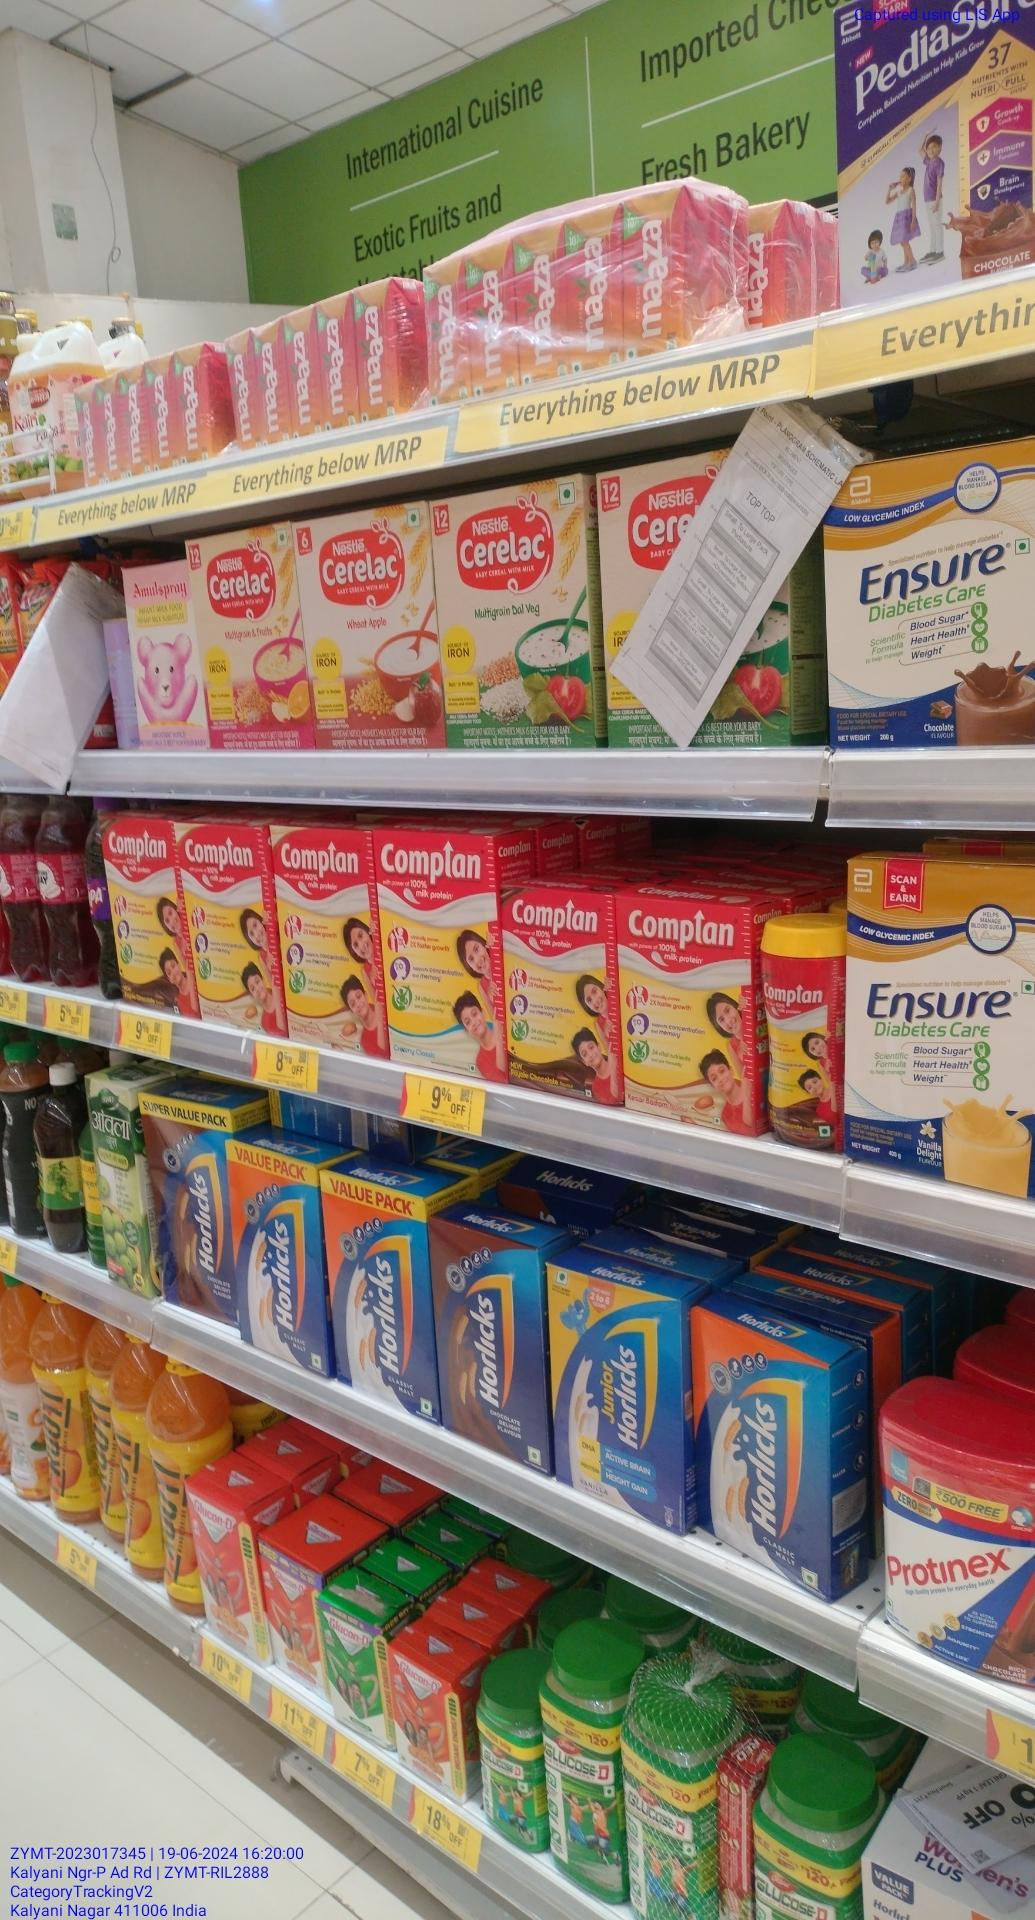COMPLAN_CREAMY_CLASSIC_500_G_PACK: (377, 833, 501, 1079)
PROTINEX_CHOCOLATE_400_G_JAR: (869, 1422, 1035, 1672)
